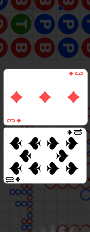10C: (67, 128, 83, 136)
3D: (68, 70, 85, 76)
